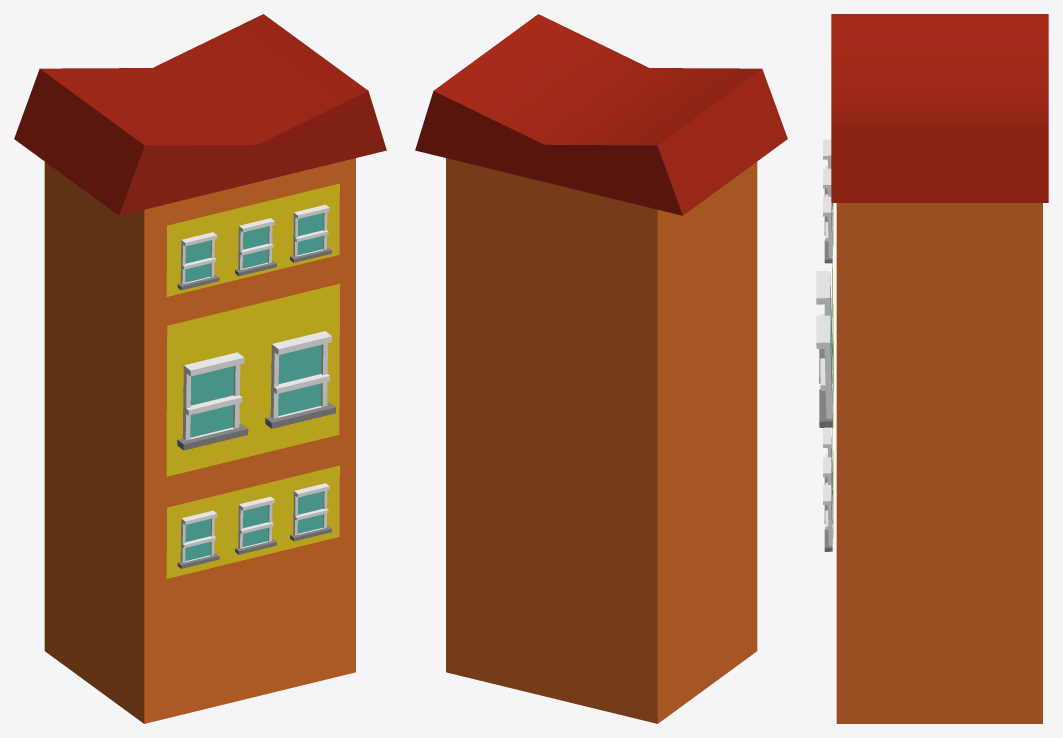
File: prediozin_6.dae
3 views of the same model, side by side, from view 1: azimuth 30°, elevation 25°; view 2: azimuth 150°, elevation 25°; view 3: azimuth 270°, elevation 25° (orthographic). The views are drawn at different scales.
Visible parts, largest first — view 1: pCube42, pCube48, pPlane9, pPlane8, pPlane7, pCube46, pCube47, pCube43, pCube44, pCube39, pCube40, pCube41 (+1 smaller); view 2: pCube42, pCube48; view 3: pCube42, pCube48, pCube47, pCube46, pCube39, pCube40.
Boxes of the visible parts, left/top/right/bottom form: pCube42: left=44, top=158, right=355, bottom=723; pCube48: left=14, top=14, right=386, bottom=215; pPlane9: left=166, top=283, right=339, bottom=476; pPlane8: left=166, top=465, right=339, bottom=578; pPlane7: left=166, top=183, right=339, bottom=296; pCube46: left=177, top=352, right=248, bottom=450; pCube47: left=265, top=331, right=335, bottom=428; pCube43: left=235, top=218, right=276, bottom=276; pCube44: left=235, top=496, right=276, bottom=554; pCube39: left=290, top=204, right=331, bottom=262; pCube40: left=290, top=483, right=331, bottom=541; pCube41: left=177, top=232, right=219, bottom=290; pCube42: left=446, top=158, right=757, bottom=723; pCube48: left=415, top=14, right=787, bottom=215; pCube42: left=836, top=203, right=1042, bottom=723; pCube48: left=831, top=14, right=1048, bottom=202; pCube47: left=816, top=315, right=832, bottom=427; pCube46: left=816, top=271, right=832, bottom=383; pCube39: left=823, top=196, right=832, bottom=263; pCube40: left=823, top=485, right=832, bottom=551.
Bounding box in the file's own units: 3.37 × 6.98 × 2.44.
